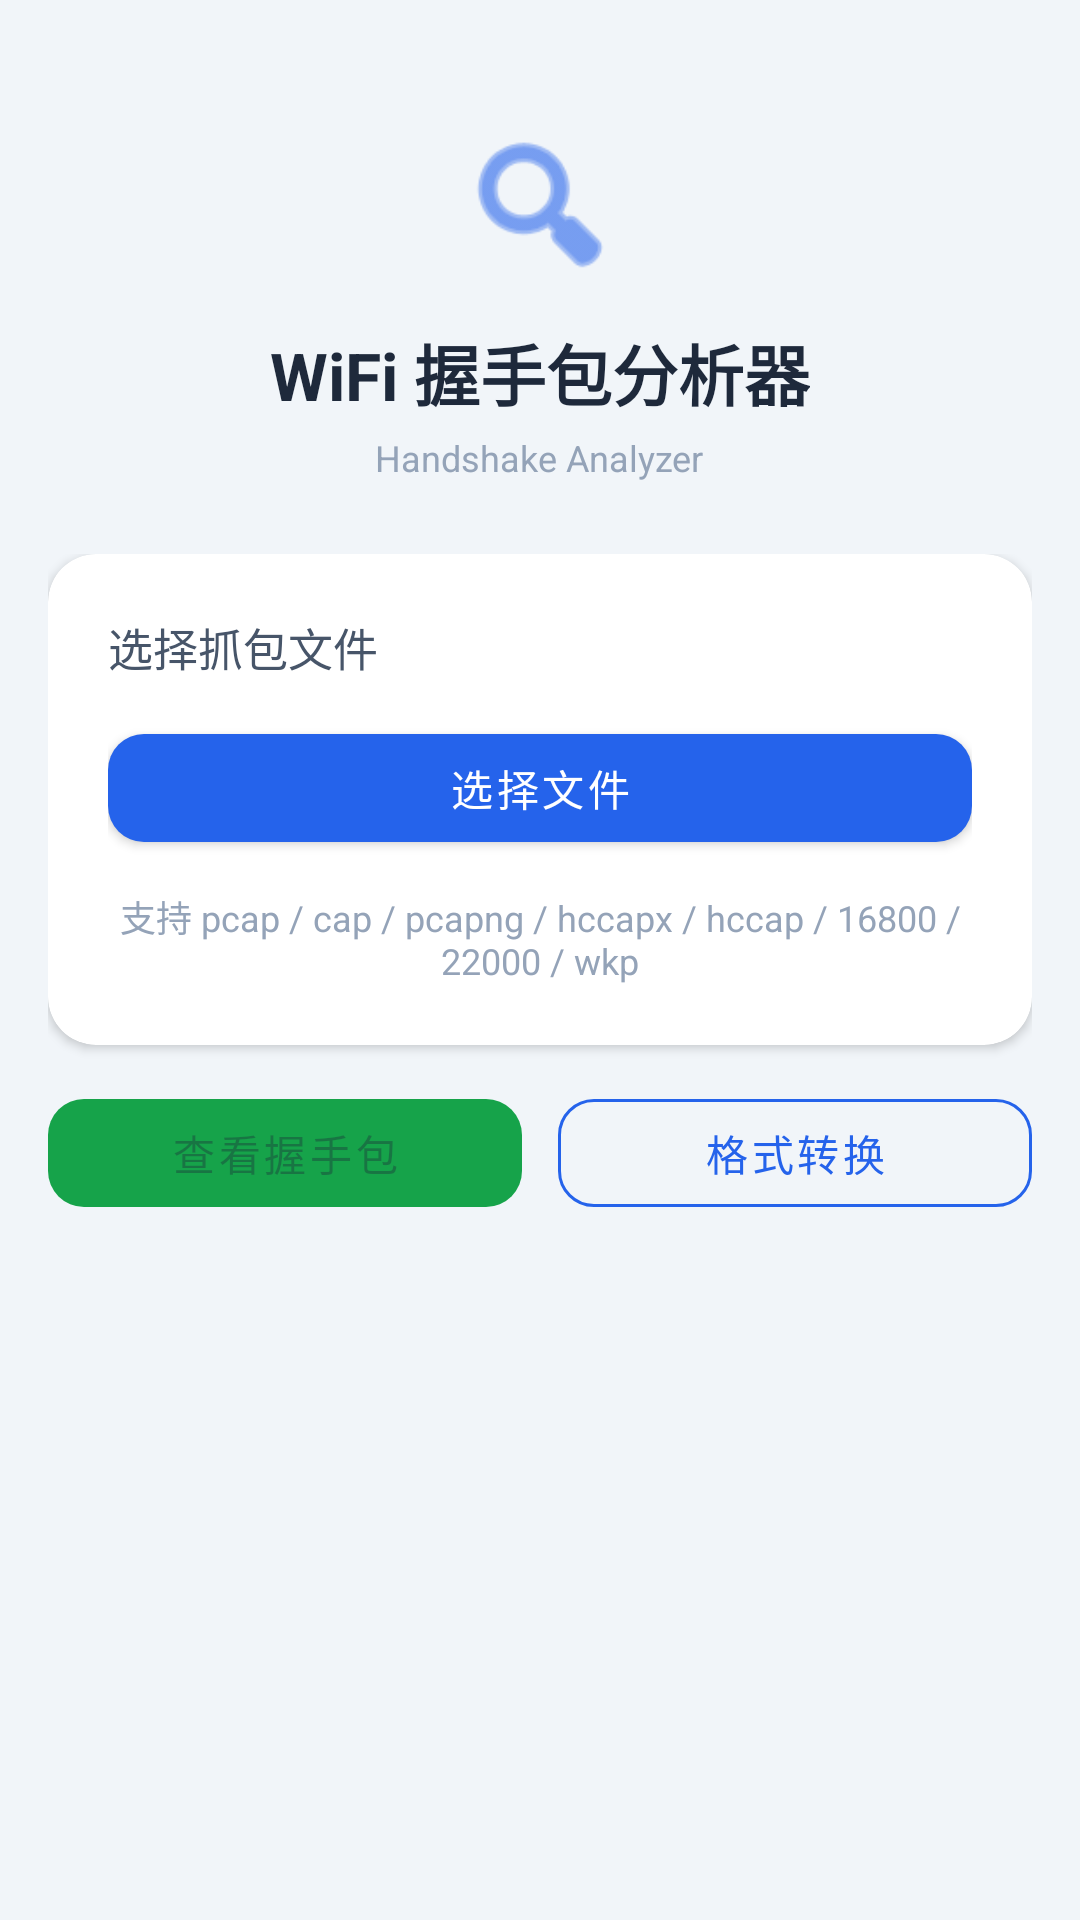

Where icons sit on this 1080×1920 app screen, as (x1, y1, x2, y2):
search: (478, 142, 602, 267)
